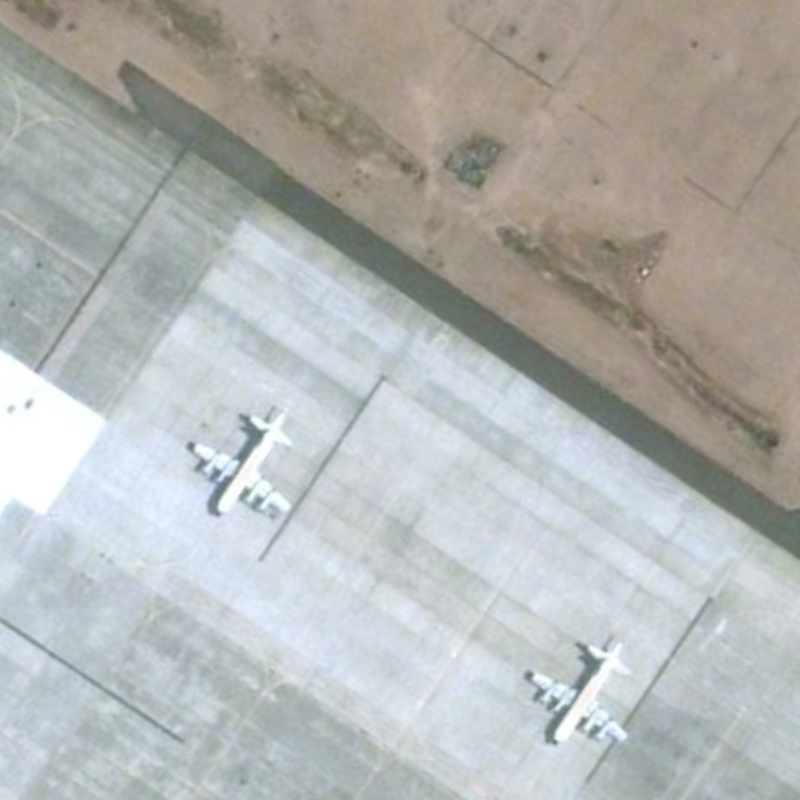A9: (177, 398, 298, 528), (519, 628, 636, 759)
